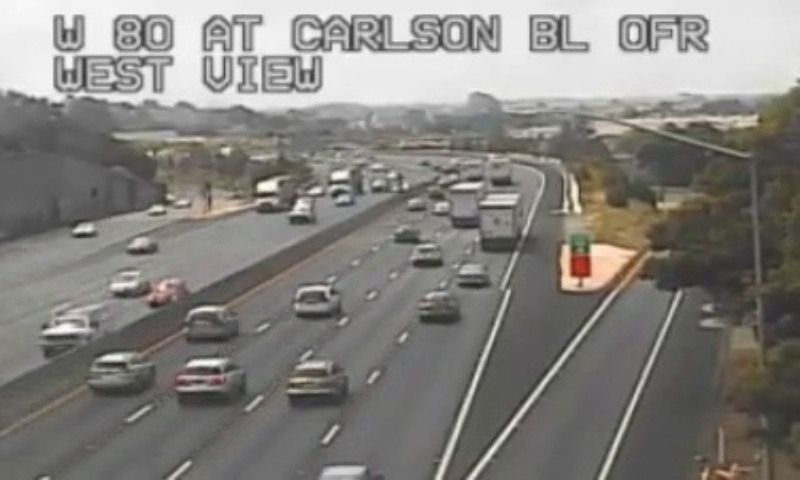car: (172, 357, 246, 398), (87, 350, 153, 391), (287, 360, 344, 396), (182, 304, 236, 341), (291, 285, 338, 315), (420, 292, 458, 321), (456, 263, 490, 286), (410, 243, 442, 265)
truck: (476, 191, 523, 249), (446, 182, 487, 225)
